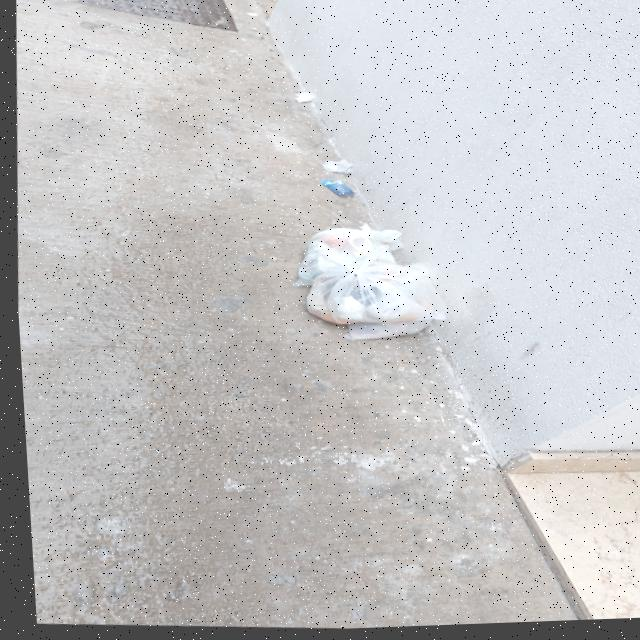Organic Waste -White Bag-: (294, 263, 447, 345), (294, 223, 401, 281)
